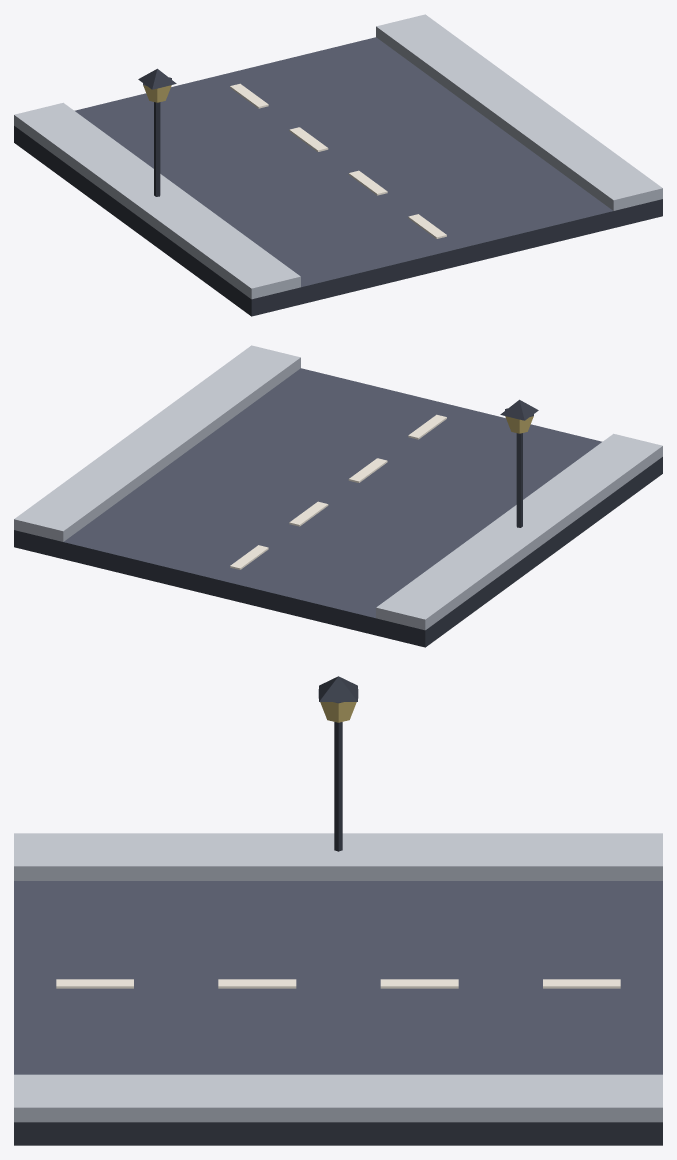
File: road_straight.glb
The picture shows the model from 3 angles, top to bottom: view 1: azimuth 30°, elevation 25°; view 2: azimuth 150°, elevation 25°; view 3: azimuth 270°, elevation 25°; orthographic projection. The views are drawn at different scales.
Visible parts, largest first — view 1: road_straight; view 2: road_straight; view 3: road_straight.
Boxes of the visible parts, left/top/right/bottom form: road_straight: left=14, top=14, right=662, bottom=316; road_straight: left=14, top=345, right=662, bottom=647; road_straight: left=14, top=676, right=662, bottom=1145.
Bounding box in the file's own units: 1 × 0.36 × 1.
